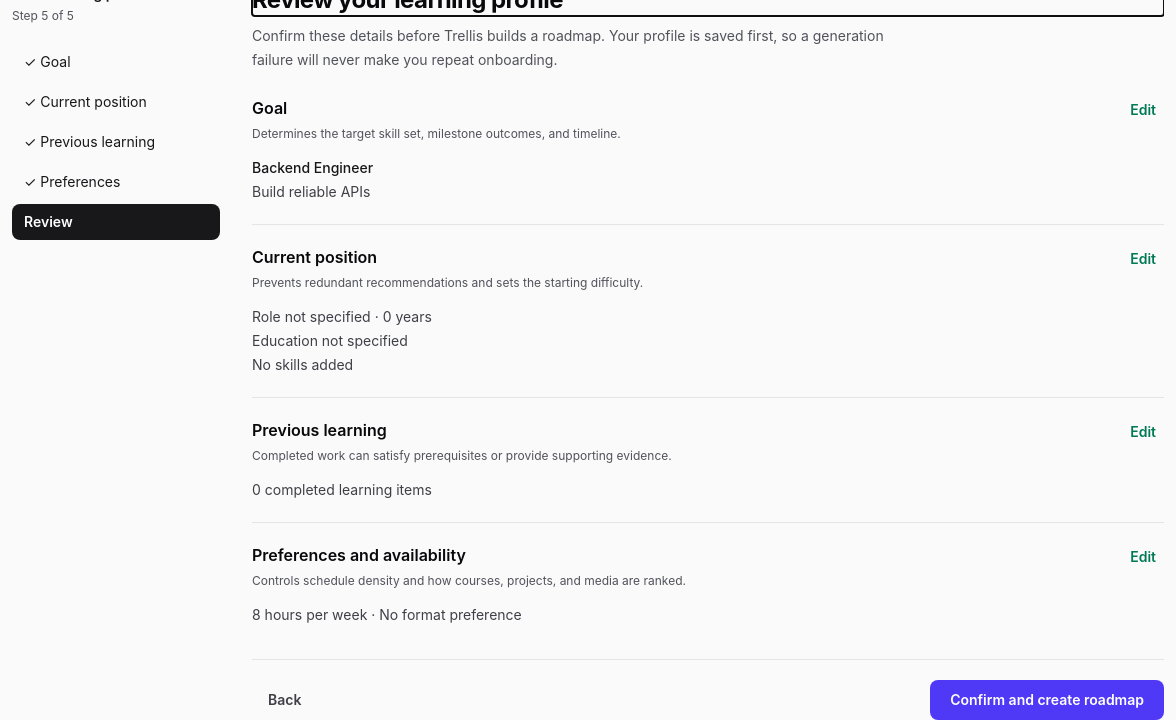
OnboardingWizard › does not create a roadmap while resource discovery is still running
(page scrolled)
Click the button "Confirm and create roadmap" at coordinates (1047, 700), box [930,680,1164,719]
(page scrolled)
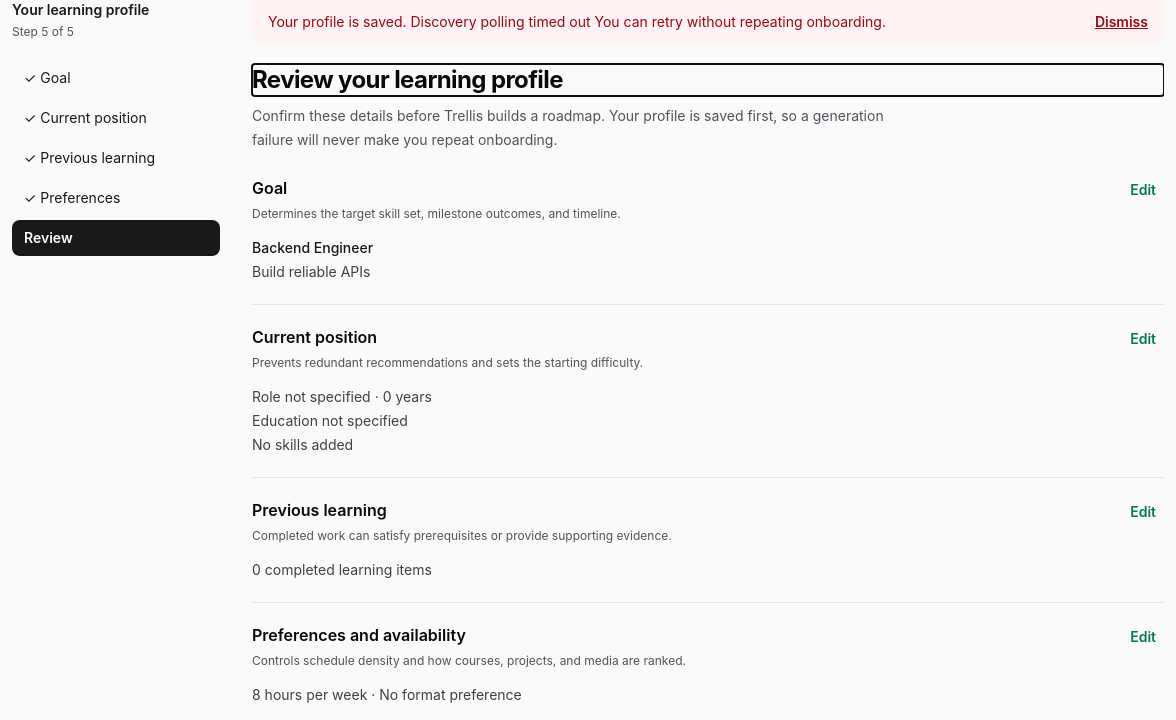
expect the message shows "Your profile is saved": met, box [268,13,886,30]
